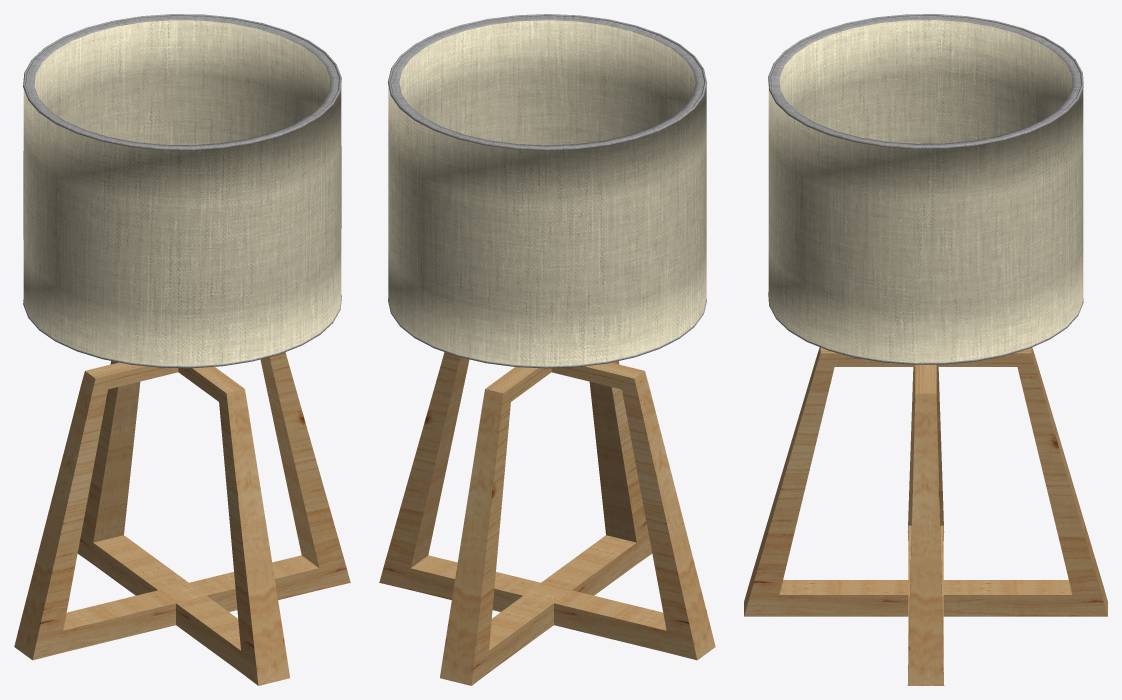
The model's file is chietino-table-lamp.glb.
The picture shows the model from 3 angles, left to right: view 1: azimuth 30°, elevation 25°; view 2: azimuth 150°, elevation 25°; view 3: azimuth 270°, elevation 25°; orthographic projection.
Parts seen in each view (by area): view 1: subscattering, Cube, Cube.001; view 2: subscattering, Cube, Cube.001; view 3: subscattering, Cube.001, Cube.
Boxes of the visible parts, bbox=[...] form: subscattering: bbox=[23, 14, 341, 368]; Cube: bbox=[14, 352, 350, 660]; Cube.001: bbox=[77, 361, 289, 685]; subscattering: bbox=[388, 14, 706, 368]; Cube: bbox=[379, 352, 715, 660]; Cube.001: bbox=[440, 361, 652, 685]; subscattering: bbox=[768, 14, 1083, 364]; Cube.001: bbox=[744, 347, 1107, 616]; Cube: bbox=[907, 364, 944, 685].
Size of the model in its own units: 0.3388 by 0.5436 by 0.3388.
Materials: 8 (5 with a texture image).
